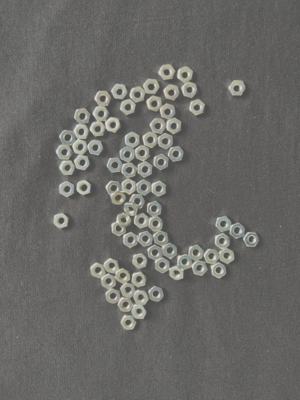nut: (229, 80, 247, 97), (181, 82, 199, 99), (163, 84, 181, 101), (177, 67, 194, 84), (150, 118, 167, 135), (190, 99, 206, 117), (94, 91, 112, 107), (159, 64, 176, 80), (144, 79, 161, 95), (130, 87, 147, 103), (160, 103, 176, 120), (121, 99, 137, 116), (112, 84, 129, 100), (105, 117, 122, 133), (74, 124, 91, 140), (87, 140, 104, 156), (59, 160, 76, 176), (158, 133, 174, 150), (168, 146, 185, 162), (135, 145, 151, 162), (121, 163, 138, 179), (229, 223, 246, 239), (215, 216, 232, 232), (215, 233, 231, 250), (211, 262, 227, 279), (188, 245, 205, 261), (177, 254, 193, 271), (123, 232, 139, 249), (149, 286, 165, 303), (56, 145, 74, 160), (147, 96, 163, 112), (75, 108, 91, 124), (60, 130, 76, 146), (72, 140, 88, 156), (59, 182, 75, 198), (166, 118, 182, 134), (147, 201, 163, 217), (134, 213, 150, 229), (154, 231, 170, 247), (204, 249, 220, 265), (133, 254, 149, 270), (132, 272, 148, 288), (90, 263, 106, 279), (90, 122, 107, 137), (74, 156, 91, 171), (143, 132, 158, 149), (125, 132, 140, 149), (154, 154, 169, 171), (243, 233, 260, 248), (138, 231, 153, 248), (155, 257, 170, 274), (101, 273, 116, 290), (131, 305, 148, 320), (77, 180, 92, 196), (54, 214, 70, 229), (120, 147, 135, 163), (138, 162, 153, 178), (107, 158, 123, 173), (152, 181, 167, 197), (137, 180, 152, 196), (122, 179, 137, 195), (116, 213, 131, 229), (149, 216, 164, 232), (220, 248, 235, 264), (192, 261, 208, 276), (170, 265, 185, 281), (163, 243, 178, 259), (148, 245, 163, 261), (104, 259, 120, 274), (116, 268, 131, 284), (106, 289, 121, 305), (121, 283, 136, 299), (133, 290, 149, 305), (118, 298, 134, 313), (121, 316, 137, 331), (93, 107, 110, 121), (111, 191, 126, 206), (112, 222, 127, 237), (106, 181, 122, 195), (130, 195, 146, 209), (125, 202, 140, 216)
